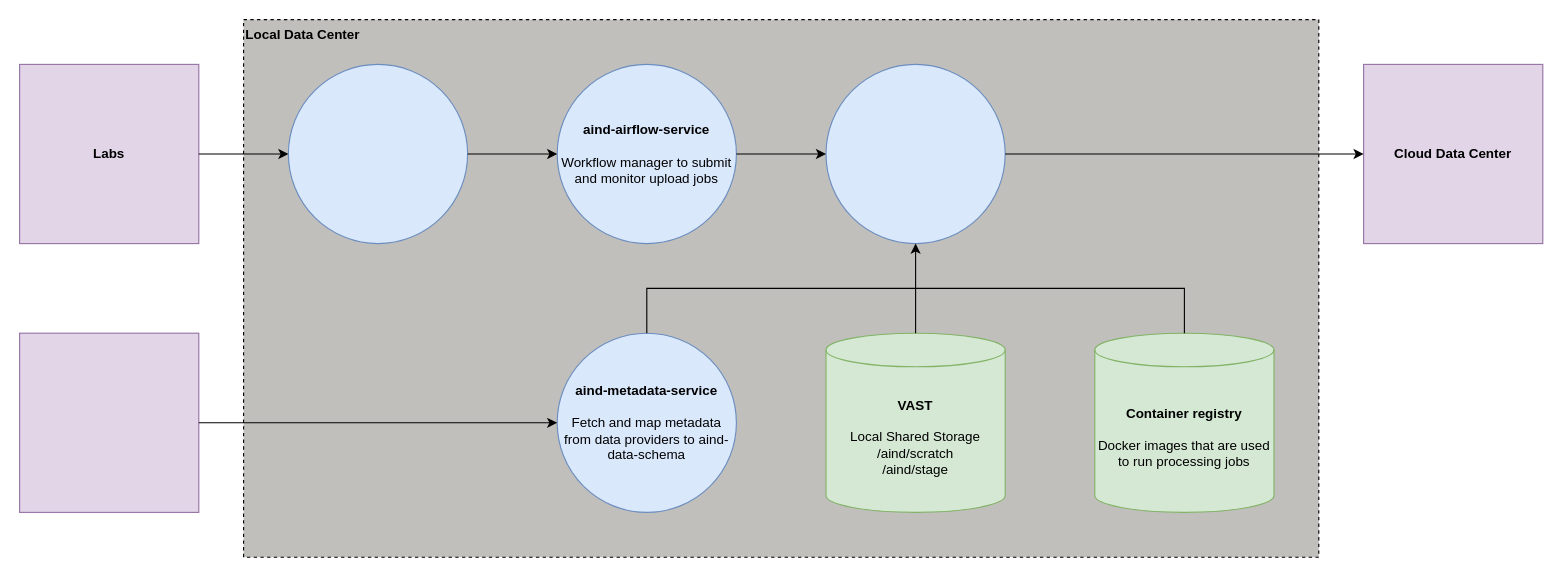
Image size: 1562x577. Some labels were removed from this diagram. Here are the shapes that lost their labels. From the top down, the box of each, then its label:
(287, 63, 468, 244): aind-data-transfer-service Validates job requests and sends to workflow manager
(825, 63, 1005, 244): Slurm Computing Cluster for processing/upload tasks
(18, 332, 199, 512): Metadata Providers
